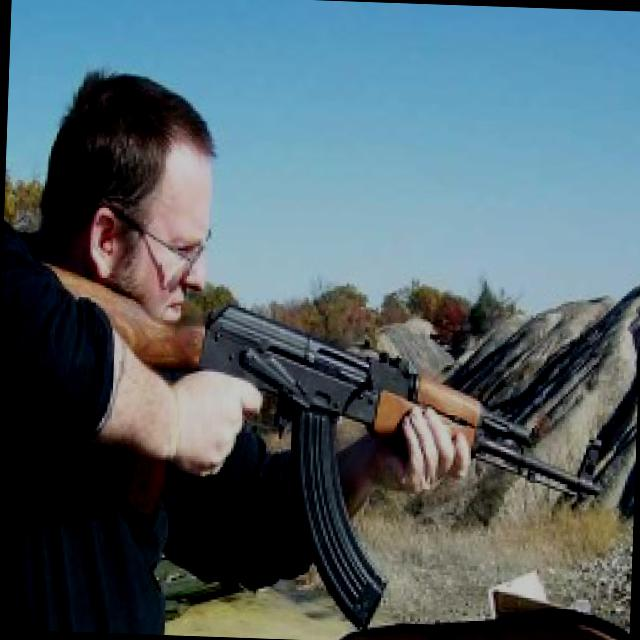long weapon: (21, 244, 639, 617)
